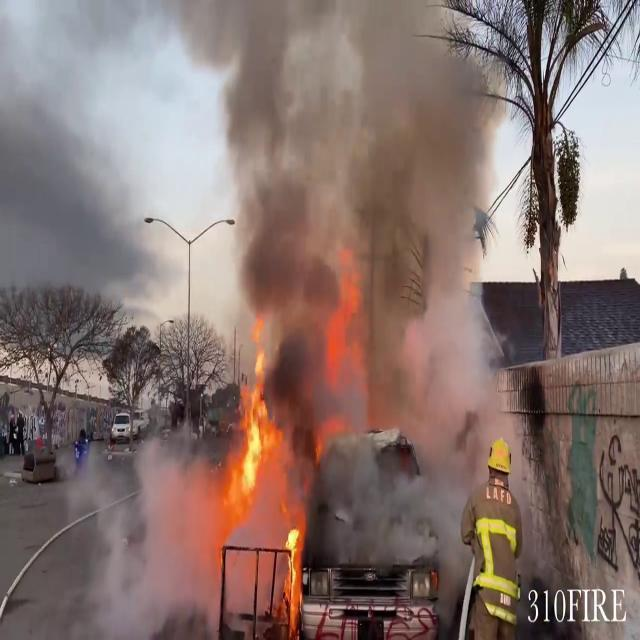Fire: (240, 343, 270, 498), (283, 518, 307, 634)
Smoke: (200, 0, 508, 486), (68, 394, 312, 636)
